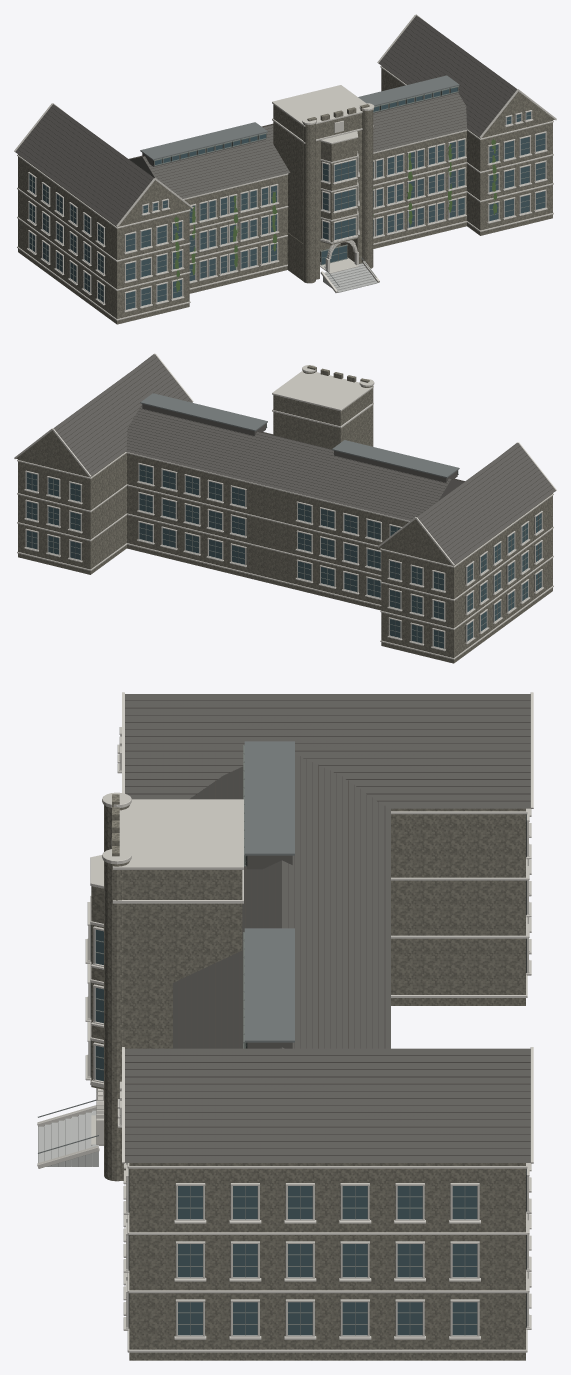
The picture shows the model from 3 angles, top to bottom: view 1: azimuth 30°, elevation 25°; view 2: azimuth 150°, elevation 25°; view 3: azimuth 270°, elevation 25°; orthographic projection. The views are drawn at different scales.
Parts seen in each view (by area): view 1: end-wings-estimated-depth__stone, end-high-gable-slopes__roof, long-stone-front__stone, long-ridged-roof-estimated-back__roof, paired-long-front-windows__trim, paired-long-front-windows__glass, tower-upper-stone__stone, rounded-tower-corner__stone, end-front-windows__glass, end-front-windows__trim, end-high-gable-roof-courses__roofline, long-rooflight-cap__metal (+22 smaller); view 2: end-wings-estimated-depth__stone, long-stone-front__stone, long-ridged-roof-estimated-back__roof, end-high-gable-slopes__roof, estimated-long-rear-windows__glass, long-ridged-roof-estimated-back-tile-courses__roofline, estimated-long-rear-windows__trim, tower-upper-stone__stone, estimated-wing-rear__glass, long-rooflight-cap__metal, end-high-gable-roof-courses__roofline, end-high-gable-gable__stone (+11 smaller); view 3: end-high-gable-slopes__roof, end-wings-estimated-depth__stone, long-ridged-roof-estimated-back__roof, tower-upper-stone__stone, estimated-wing-outer__glass, end-high-gable-roof-courses__roofline, long-rooflight-cap__metal, tower-coping__trim, wing-stringcourses__trim, estimated-wing-outer__trim, rounded-tower-corner__stone, long-ridged-roof-estimated-back-tile-courses__roofline (+9 smaller).
Part boxes in pixels (x1,y1,x2,y2): end-wings-estimated-depth__stone: (18, 66, 552, 324); end-high-gable-slopes__roof: (15, 15, 516, 225); long-stone-front__stone: (184, 131, 466, 293); long-ridged-roof-estimated-back__roof: (129, 92, 468, 198); paired-long-front-windows__trim: (189, 138, 466, 283); paired-long-front-windows__glass: (189, 139, 464, 281); tower-upper-stone__stone: (273, 104, 362, 243); rounded-tower-corner__stone: (303, 109, 373, 283); end-front-windows__glass: (126, 133, 545, 309); end-front-windows__trim: (124, 131, 547, 312); end-high-gable-roof-courses__roofline: (18, 17, 517, 222); long-rooflight-cap__metal: (140, 75, 459, 160); end-wings-estimated-depth__stone: (18, 451, 552, 663); long-stone-front__stone: (127, 453, 408, 610); long-ridged-roof-estimated-back__roof: (125, 404, 464, 520); end-high-gable-slopes__roof: (54, 354, 555, 564); estimated-long-rear-windows__glass: (139, 464, 400, 597); long-ridged-roof-estimated-back-tile-courses__roofline: (127, 406, 464, 518); estimated-long-rear-windows__trim: (137, 463, 401, 600); tower-upper-stone__stone: (273, 390, 370, 449); estimated-wing-rear__glass: (26, 472, 443, 648); long-rooflight-cap__metal: (140, 393, 459, 477); end-high-gable-roof-courses__roofline: (53, 356, 552, 561); end-high-gable-gable__stone: (16, 430, 451, 564); end-high-gable-slopes__roof: (125, 694, 530, 1162); end-wings-estimated-depth__stone: (129, 808, 525, 1360); long-ridged-roof-estimated-back__roof: (173, 754, 390, 1048); tower-upper-stone__stone: (122, 870, 242, 1048); estimated-wing-outer__glass: (178, 1186, 477, 1335); end-high-gable-roof-courses__roofline: (125, 700, 530, 1155); long-rooflight-cap__metal: (244, 741, 294, 1042); tower-coping__trim: (112, 799, 243, 903); wing-stringcourses__trim: (127, 808, 527, 1352); estimated-wing-outer__trim: (174, 1183, 480, 1339); rounded-tower-corner__stone: (104, 805, 129, 1181); long-ridged-roof-estimated-back-tile-courses__roofline: (178, 756, 385, 1048).
Size of the model in its own units: 66.74 by 23.43 by 32.54.
10 materials, 1 textured.
